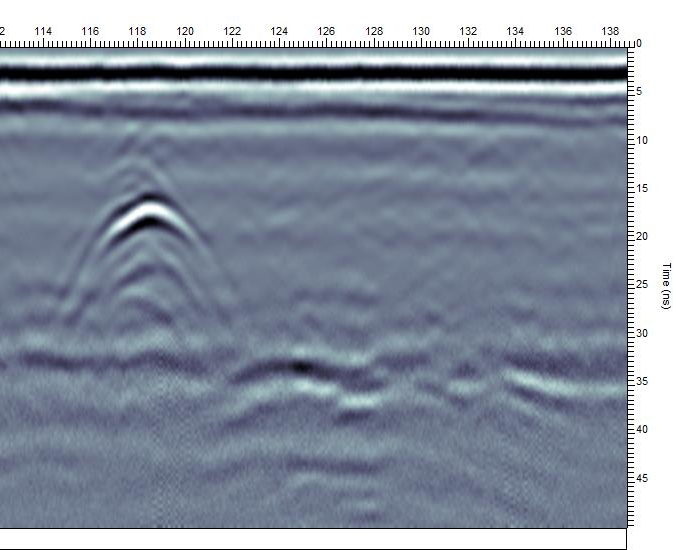hyperbola: (59, 193, 223, 309)
